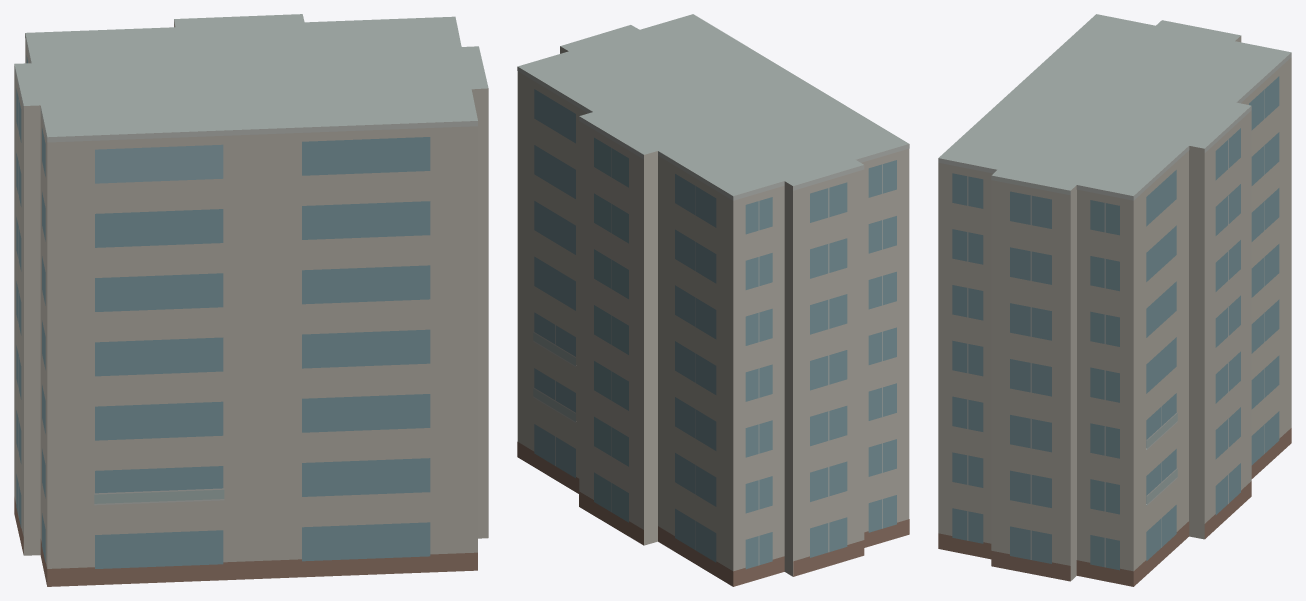
The model's file is survey-upis-32562837.glb.
3 renders of one model, left to right at view 1: azimuth 30°, elevation 25°; view 2: azimuth 150°, elevation 25°; view 3: azimuth 270°, elevation 25°, orthographic. The views are drawn at different scales.
Visible parts, largest first — view 1: survey-upis-32562837.tmp; view 2: survey-upis-32562837.tmp; view 3: survey-upis-32562837.tmp.
Part boxes in pixels (x1=…): survey-upis-32562837.tmp: x1=14, y1=14, x2=488, y2=586; survey-upis-32562837.tmp: x1=517, y1=14, x2=909, y2=586; survey-upis-32562837.tmp: x1=938, y1=14, x2=1291, y2=586.
Bounding box in the file's own units: 20.6 × 20.6 × 16.9.
